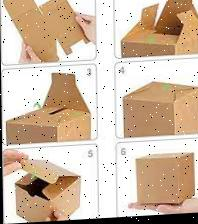cube: (134, 155, 194, 208)
